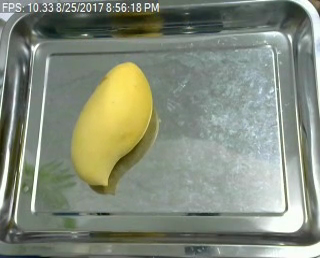Mango: (69, 60, 154, 189)
